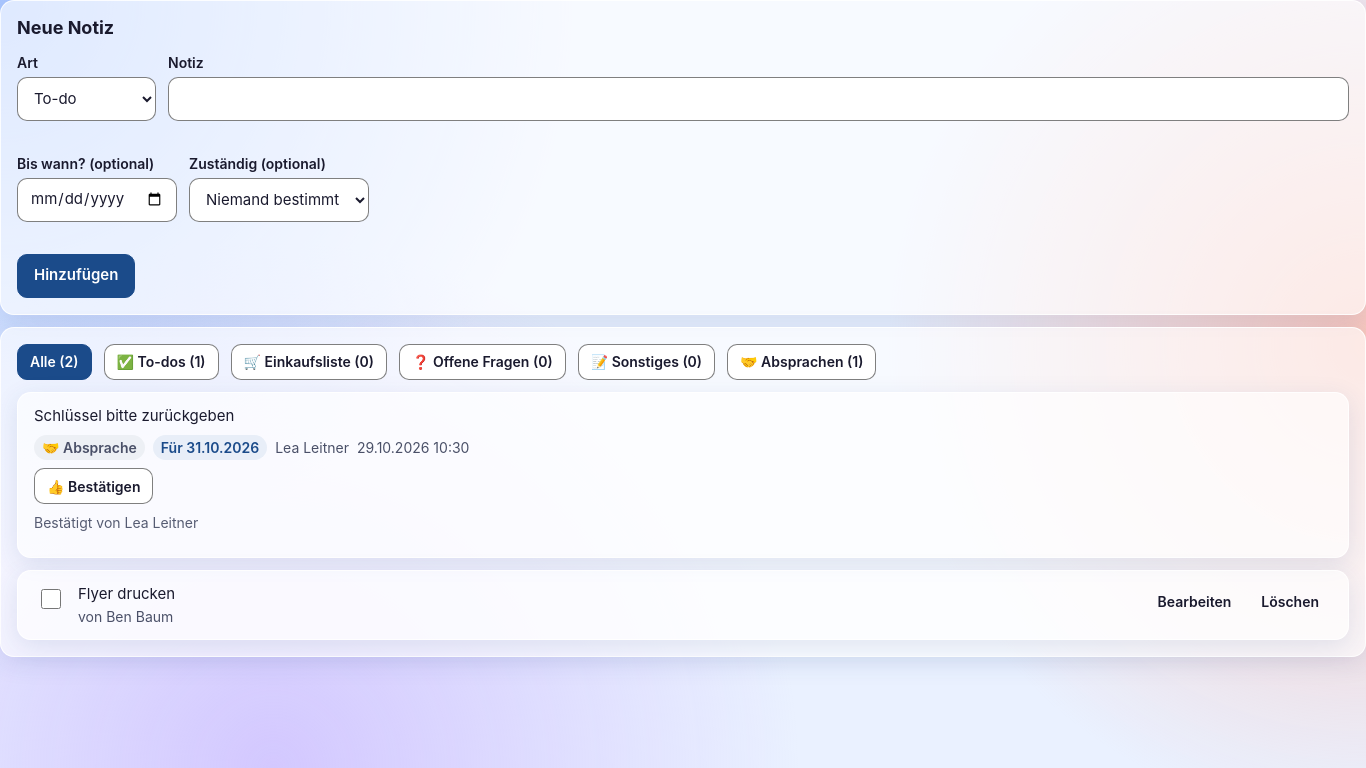
Test case: Notizen: Art „Absprache“ › Filter „Absprachen“ zeigt nur Absprachen, vergangene eingeklappt
Click the button "🤝 Absprachen (1)". click: (802, 362)
box: [727,344,876,380]
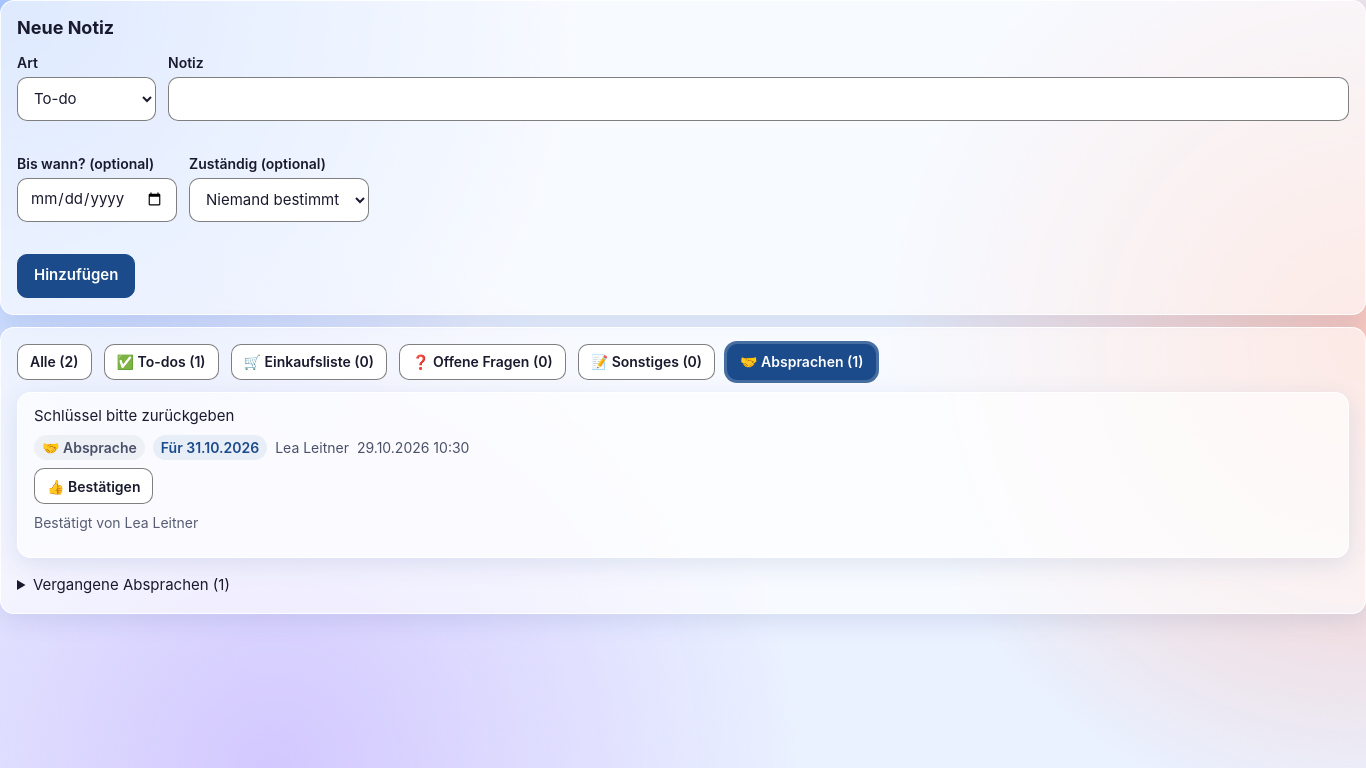
Expected: the list named "Absprachen" shows "Schlüssel bitte zurückgeben", [34,406,234,424]
Now the heading "Vergangene Absprachen (1)" is shown, box [33,575,230,594]
